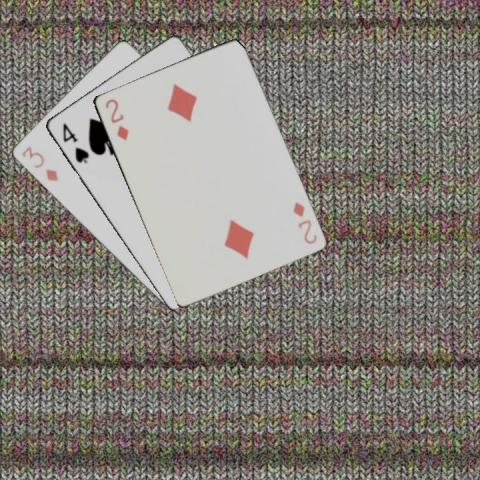2d: (289, 198, 318, 245), (101, 96, 130, 142)
3d: (18, 143, 59, 183)
4s: (59, 120, 90, 166)
